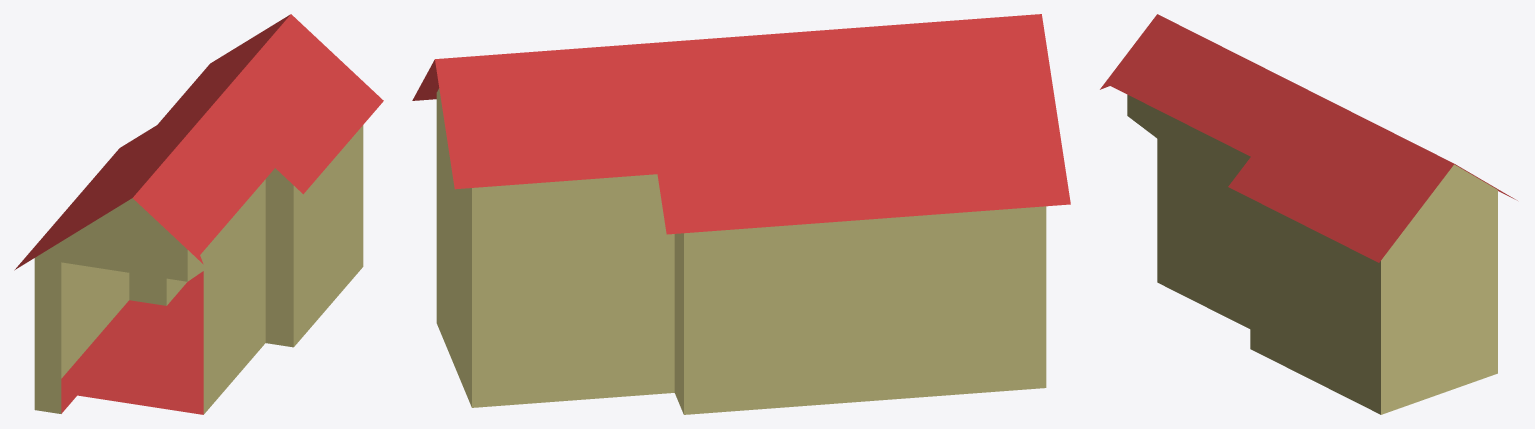
3 renders of one model, left to right at view 1: azimuth 30°, elevation 25°; view 2: azimuth 150°, elevation 25°; view 3: azimuth 270°, elevation 25°, orthographic. The views are drawn at different scales.
Size of the model in its own units: 31.27 by 26.4 by 16.18.
